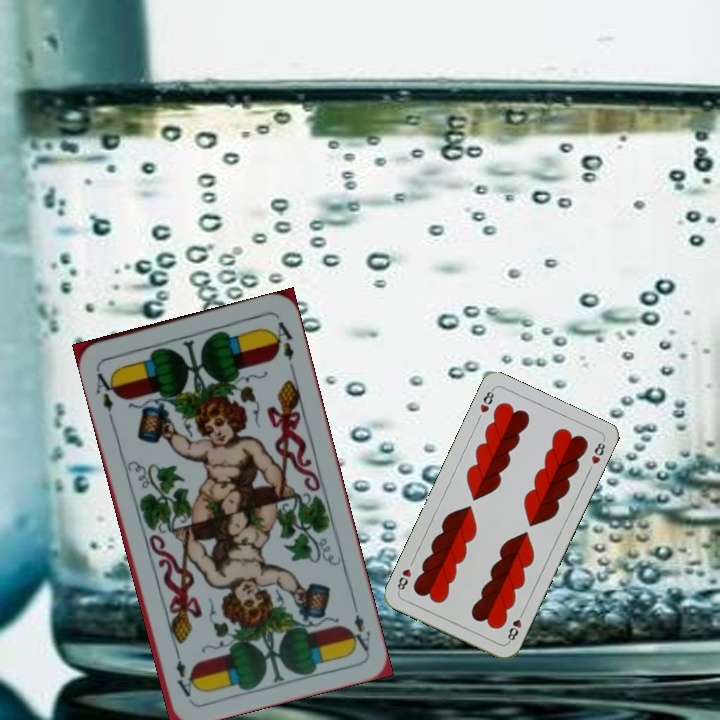EA: (92, 363, 121, 422), (345, 596, 373, 654)
H8: (503, 607, 527, 645), (476, 385, 497, 415)
